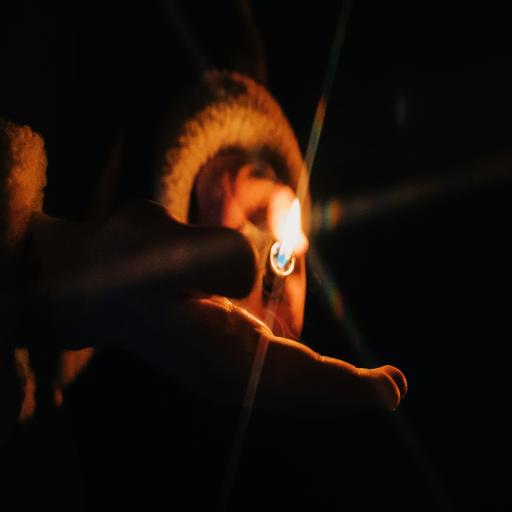fire: (246, 166, 322, 284)
